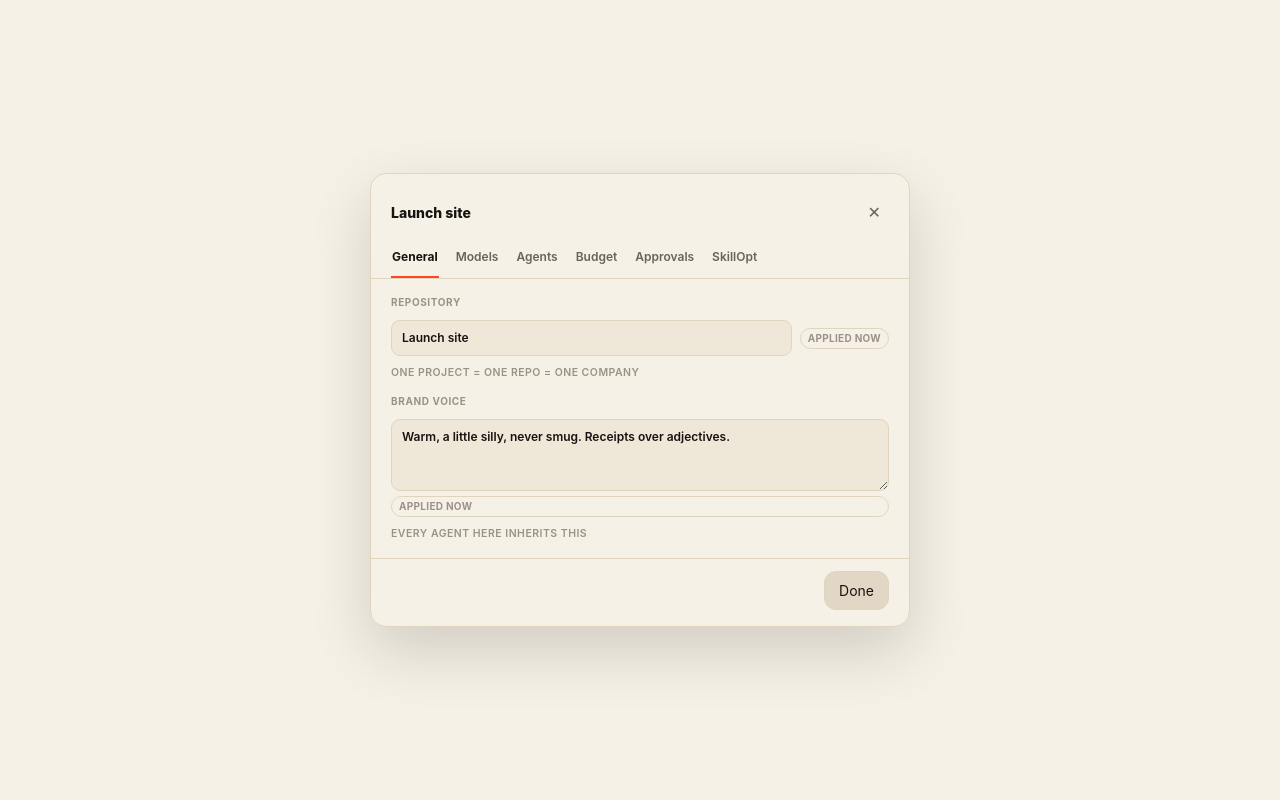
Test: ProjectSettingsSheet (#663) › applies common general settings immediately in the open sheet
Step 1. Replace the text in the field labelled "REPOSITORY" with "Updated launch site" → (591, 338), box [391,320,792,356]
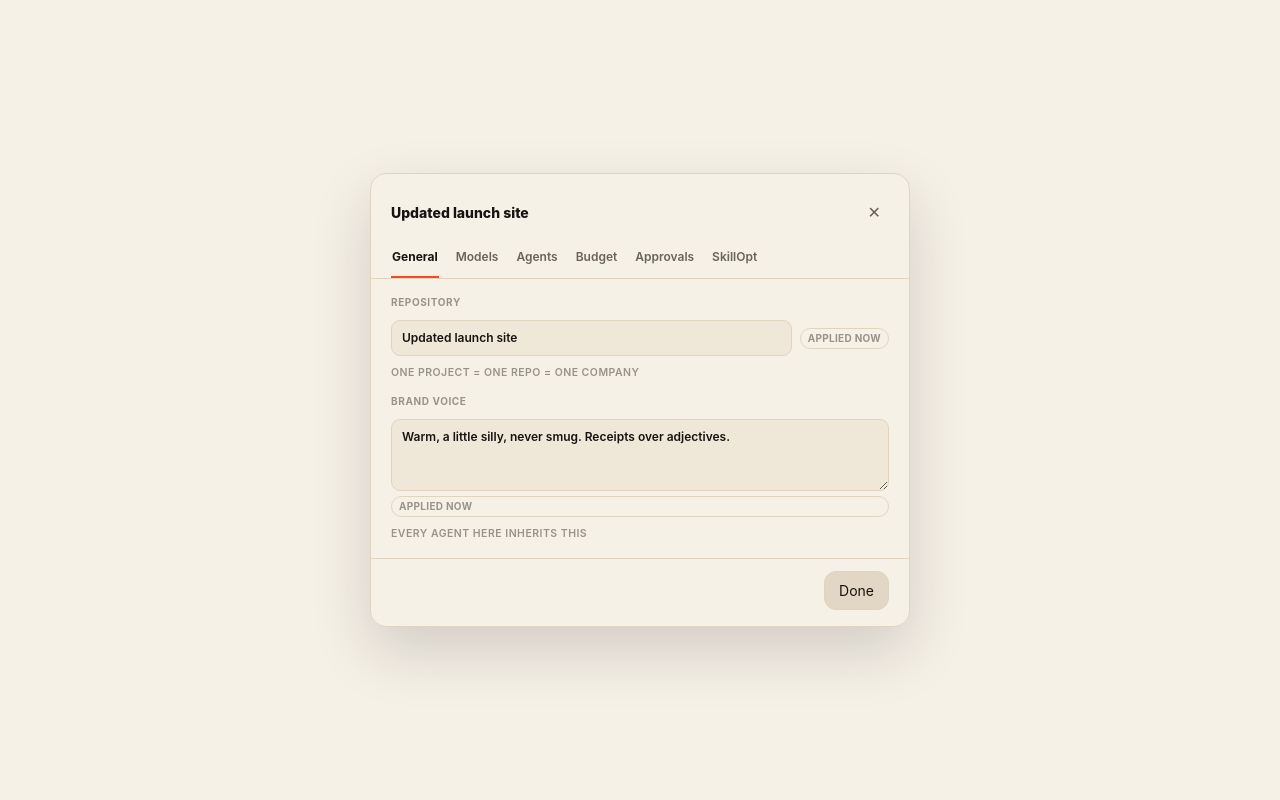
Expected: the 1st text "applied now" is shown, [800,328,889,349]
Now the heading "Updated launch site" is shown, box [391,204,529,221]
